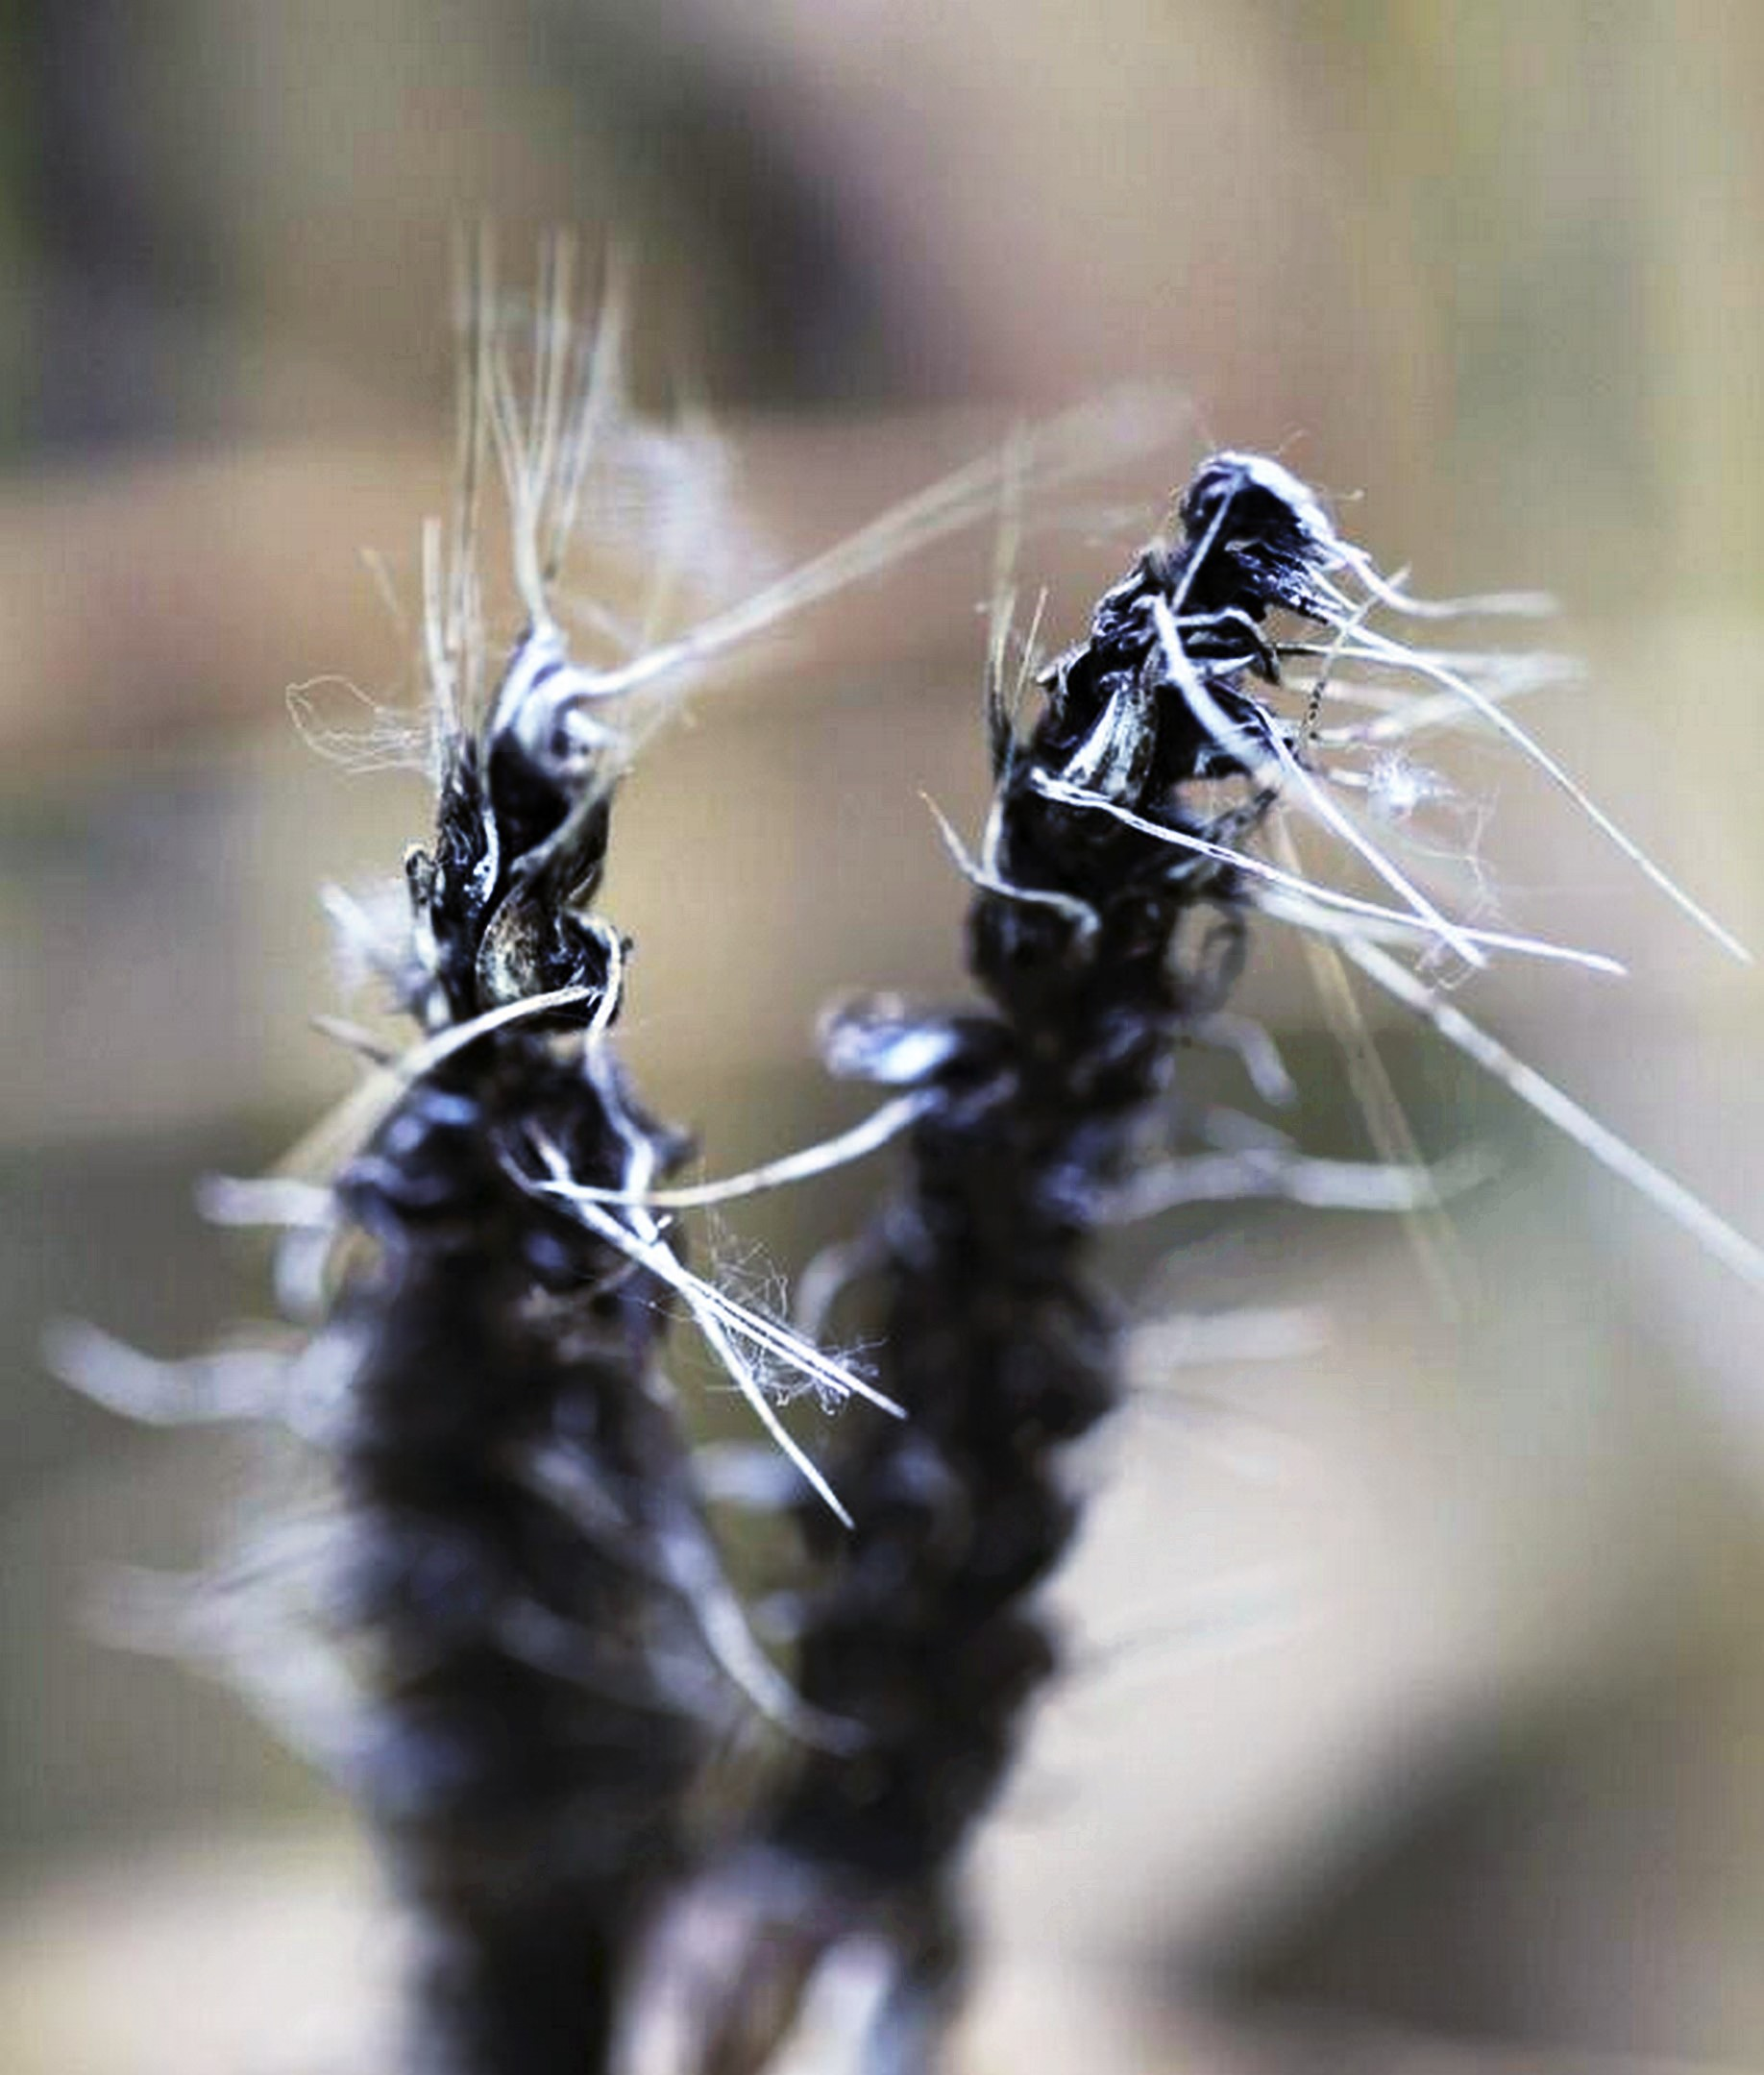Wheat Loose Smut: (252, 388, 1337, 2075)
